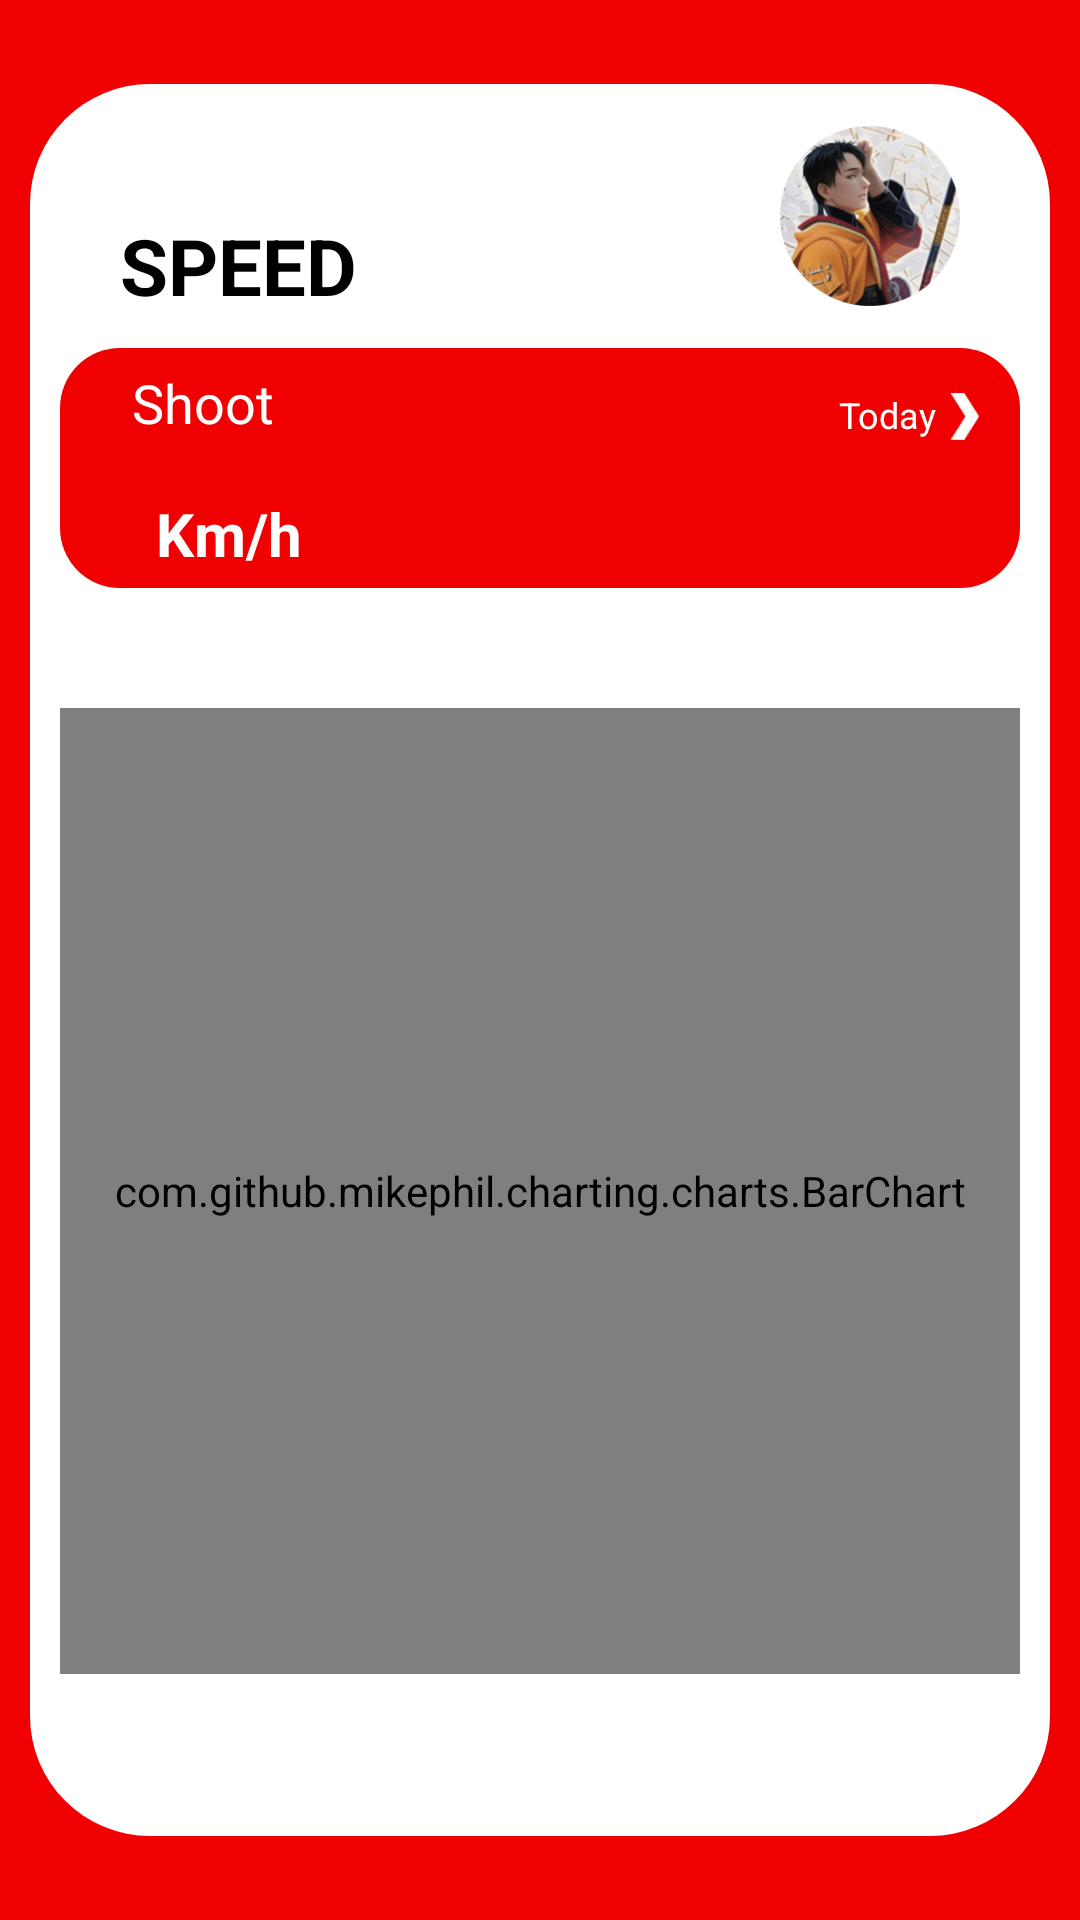

Icons on this 1080 × 1920 Android screen, each with its box as (x1, y1, x2, y2):
user: (780, 126, 960, 306)
